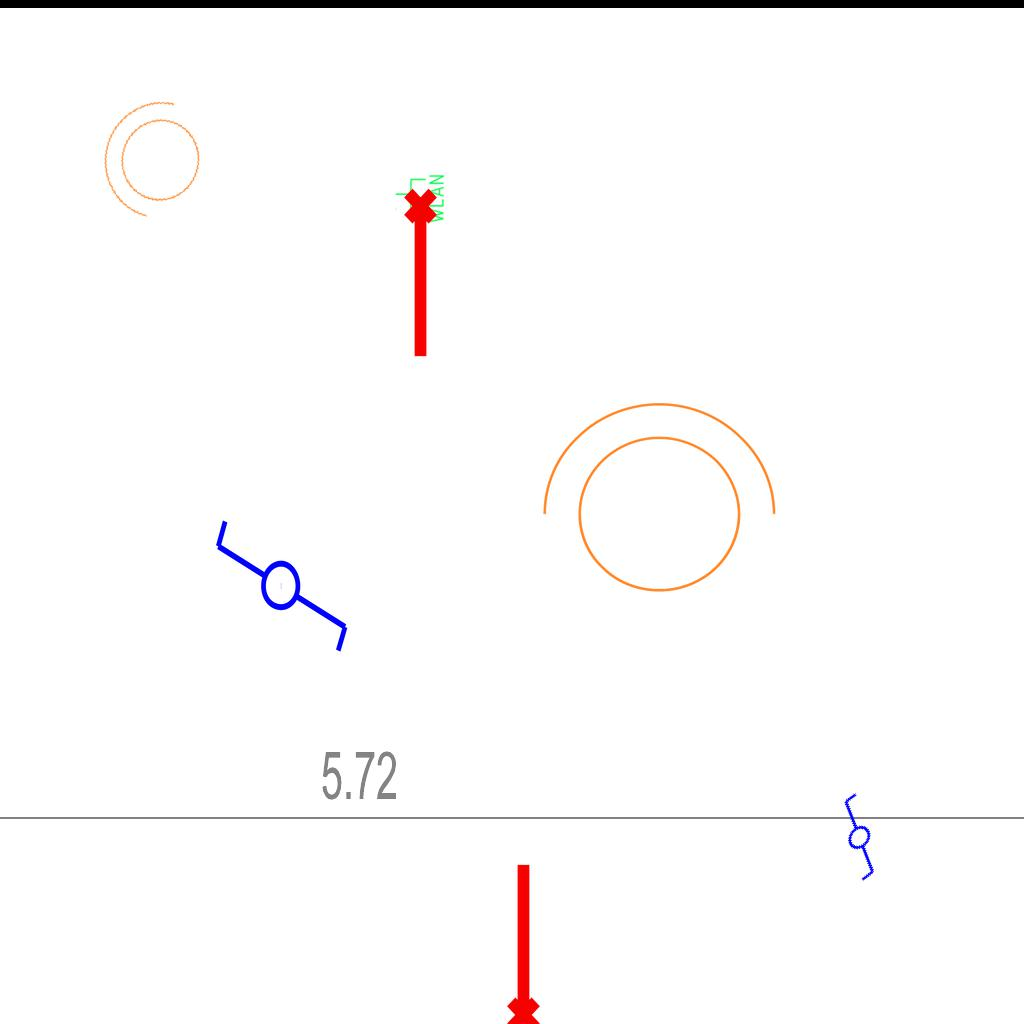ASR_Ansaugoeffnung: (400, 186, 446, 362), (498, 859, 544, 1024)
Scheinwerfer_fuer_Alarmbeleuchtung: (521, 392, 785, 617), (84, 84, 226, 240)
WLAN: (394, 173, 446, 225)
Wechselschalter: (211, 499, 355, 656), (803, 787, 909, 893)
